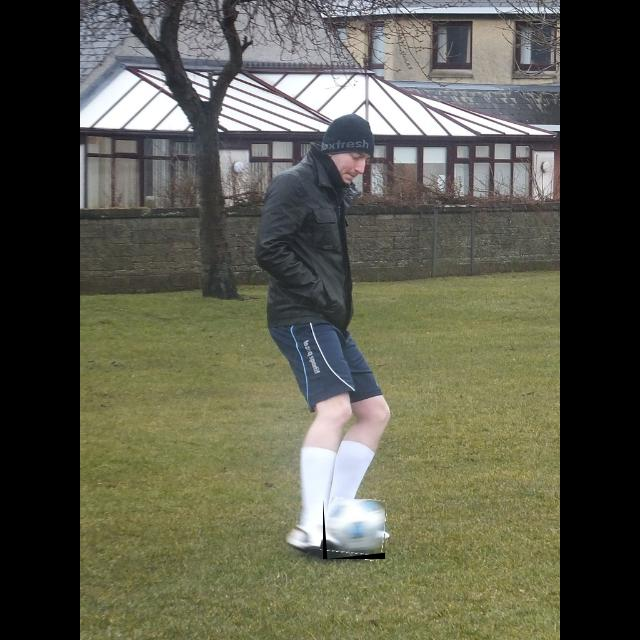Football: (323, 499, 385, 559)
